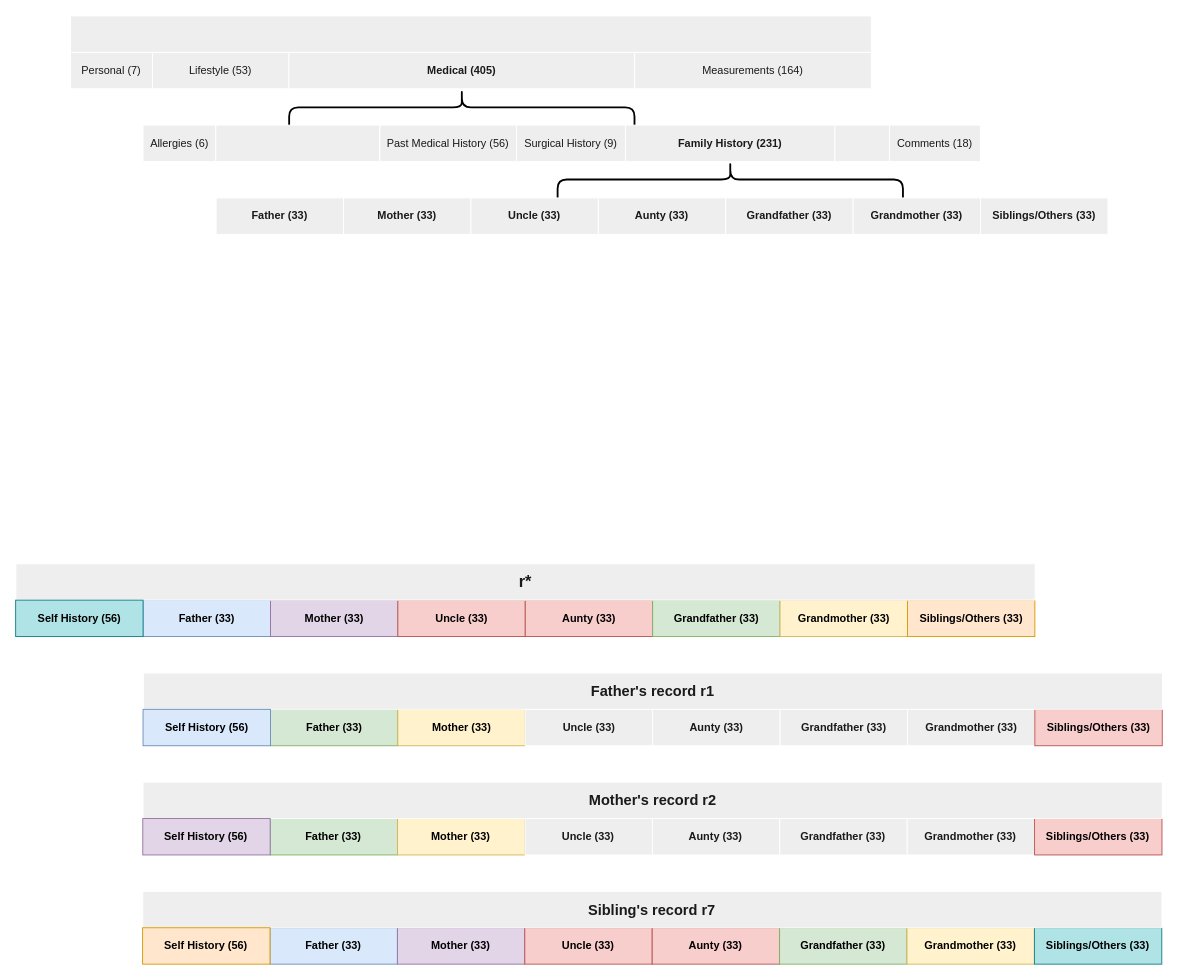
This 1179x980 diagram has some shape labels left out. The shapes that lost their labels are listed below. From the top down, each one's centre as x and y in pixels, then its label:
At [470,33]: "The Max Health dataset (629 features)".
At [297,143]: "Current Medications (80)".
At [862,143]: "AD (5)".
